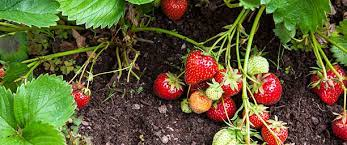ripe: (180, 48, 219, 86), (310, 64, 345, 105), (151, 68, 187, 103), (248, 72, 283, 107), (211, 65, 247, 97), (204, 93, 235, 123), (240, 102, 270, 128), (160, 0, 190, 23), (260, 120, 288, 144), (71, 83, 92, 110), (331, 111, 347, 142)
unripe: (210, 125, 253, 143), (240, 54, 271, 76), (188, 90, 211, 116), (180, 93, 194, 118), (207, 82, 224, 101)
